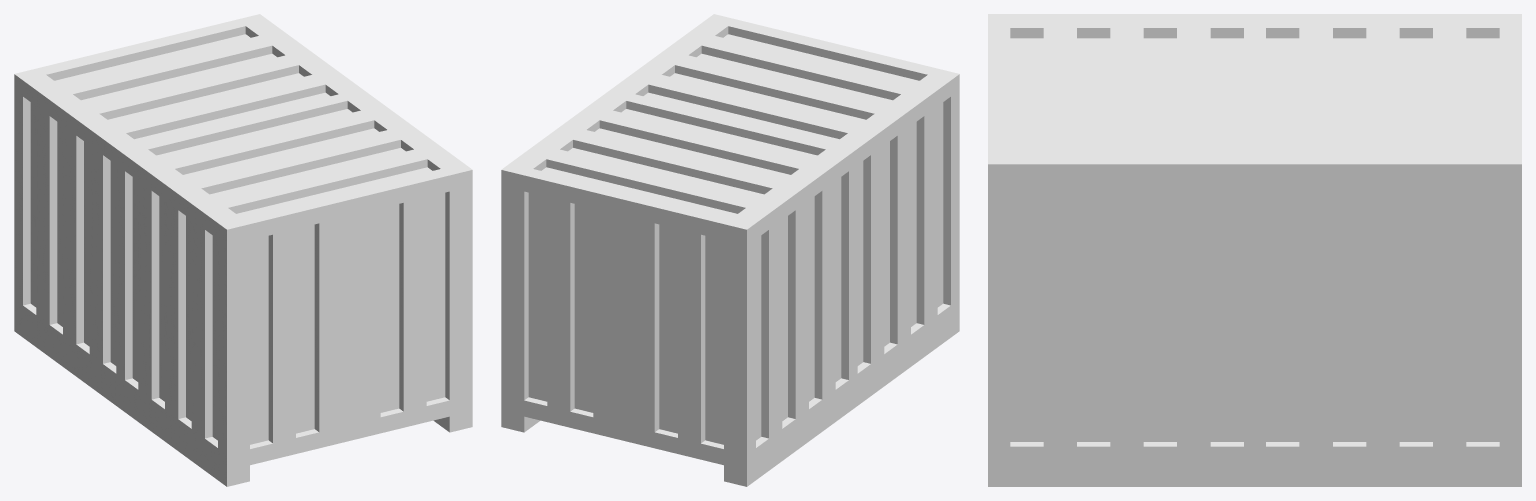
Rendered from Container_Set.fbx.
3 views of the same model, side by side, from view 1: azimuth 30°, elevation 25°; view 2: azimuth 150°, elevation 25°; view 3: azimuth 270°, elevation 25° (orthographic). The views are drawn at different scales.
Visible parts, largest first — view 1: container_1; view 2: container_1; view 3: container_1.
Boxes of the visible parts, box(x1,y1,x2,y2) form: container_1: box(14, 14, 472, 486); container_1: box(501, 14, 959, 486); container_1: box(988, 14, 1521, 486).
Size of the model in its own units: 32 by 32 by 48.
Materials: 1 (1 with a texture image).
